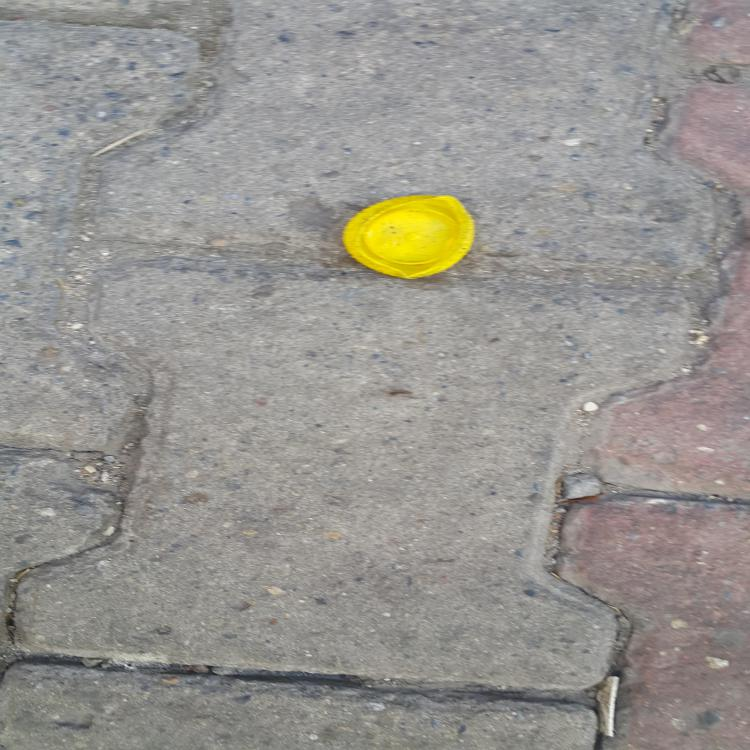Plastic bottle cap: (342, 195, 474, 280)
Unlabeled litter: (597, 677, 618, 736)
